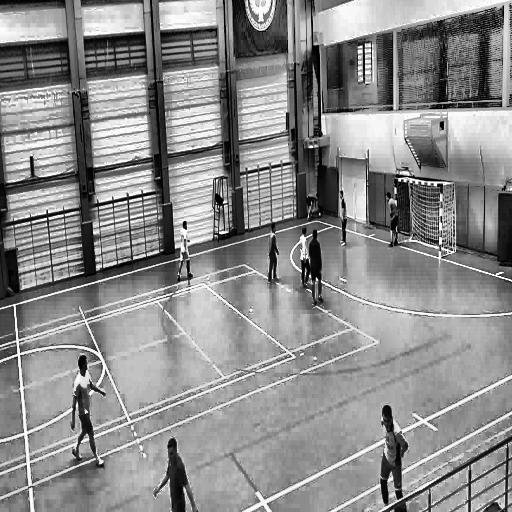ball: (317, 212, 324, 220)
player: (71, 353, 109, 472), (152, 433, 200, 512), (376, 400, 409, 512), (309, 231, 326, 312), (174, 220, 192, 284), (385, 190, 401, 250), (266, 222, 281, 282), (298, 226, 310, 290), (338, 188, 349, 246), (304, 190, 319, 222)
